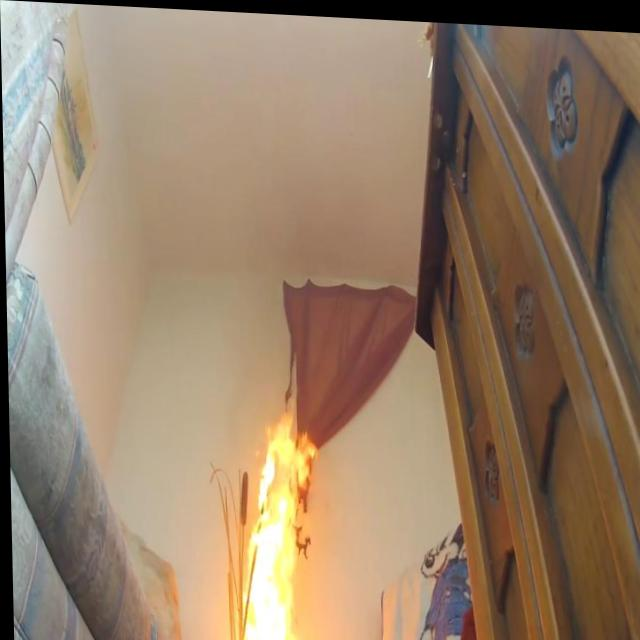fire: (228, 403, 323, 640)
